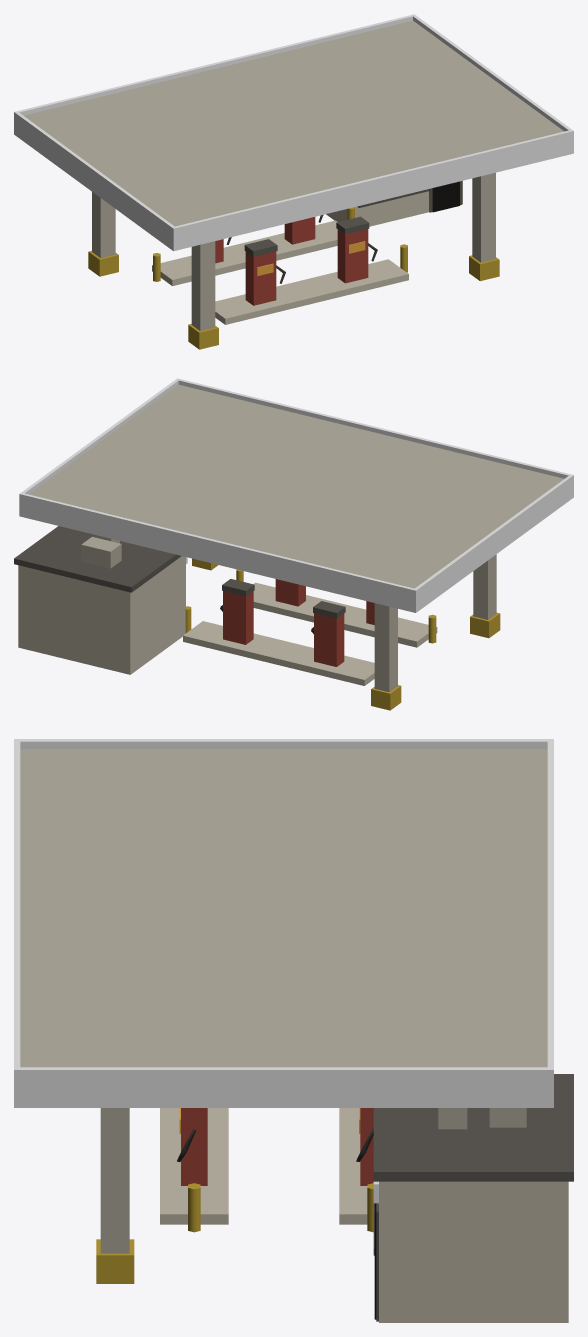
3 renders of one model, top to bottom at view 1: azimuth 30°, elevation 25°; view 2: azimuth 150°, elevation 25°; view 3: azimuth 270°, elevation 25°, orthographic. The views are drawn at different scales.
Visible parts, largest first — view 1: site_gas_station_restored; view 2: site_gas_station_restored; view 3: site_gas_station_restored.
Part boxes in pixels (bbox=[...]): site_gas_station_restored: bbox=[14, 14, 573, 349]; site_gas_station_restored: bbox=[14, 378, 573, 710]; site_gas_station_restored: bbox=[14, 739, 573, 1322].
Size of the model in its own units: 14.84 by 5.35 by 10.62.
